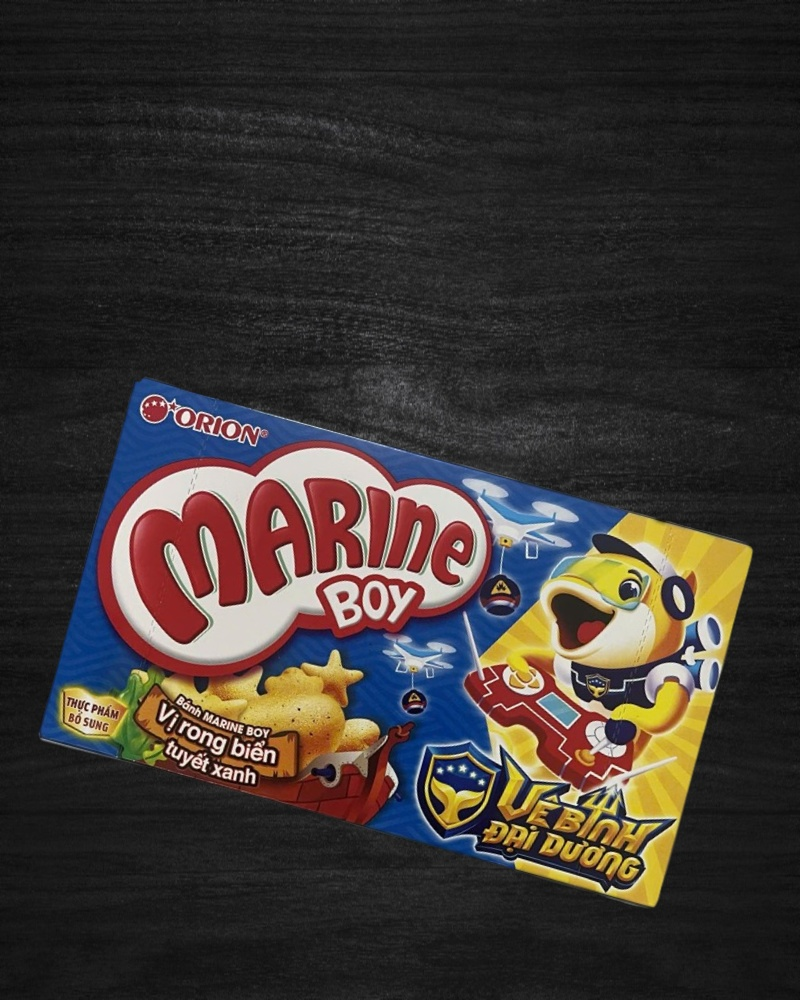Marine: (38, 376, 758, 912)
